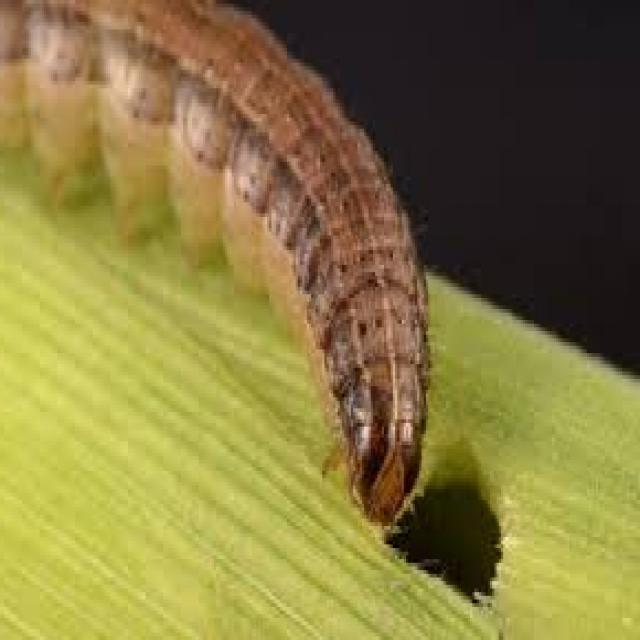armyworm: (1, 1, 436, 523)
